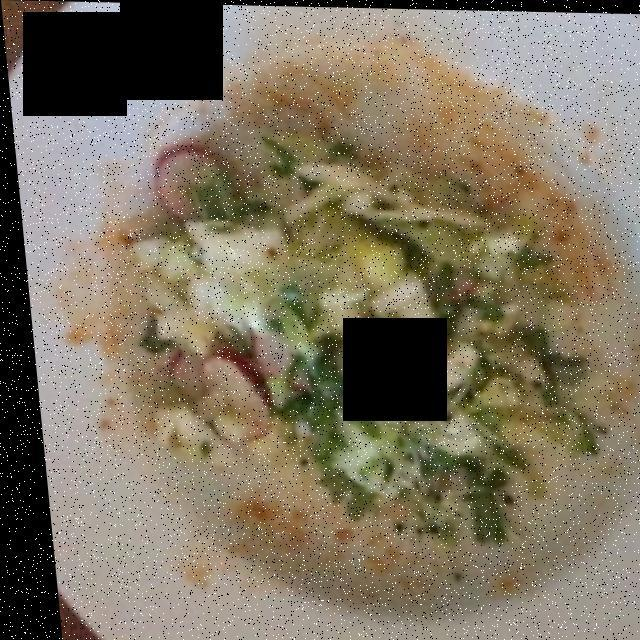salad: (130, 100, 630, 535)
